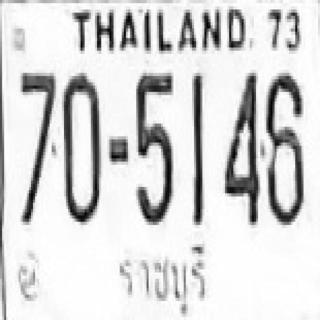N00: (63, 71, 100, 223)
N01: (191, 73, 204, 222), (192, 73, 202, 203)
N04: (222, 71, 259, 223)
N05: (134, 71, 173, 223)
N06: (264, 71, 303, 223)
N07: (19, 70, 56, 225)
P52: (111, 240, 212, 320)
